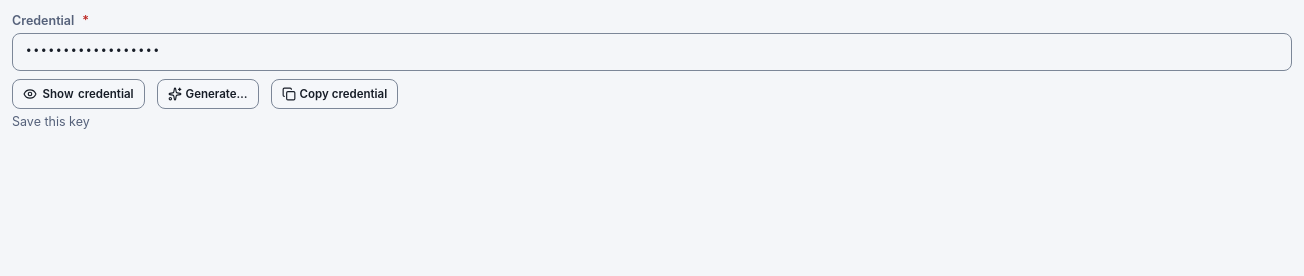
Test: SensitiveValueField › generates and reveals 32 bytes as hex using Web Crypto
Click the button named "Generate credential".
click(208, 94)  # box top-left (156, 79), bottom-right (259, 109)
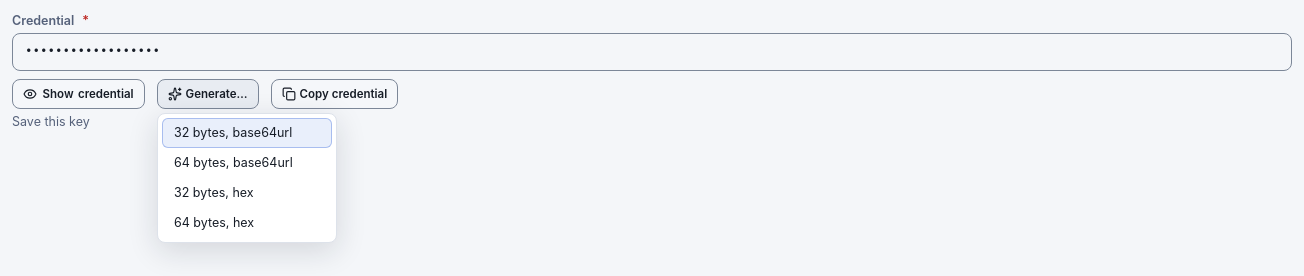
Click the menu item "32 bytes, hex".
click(214, 192)  # box top-left (174, 185), bottom-right (254, 200)
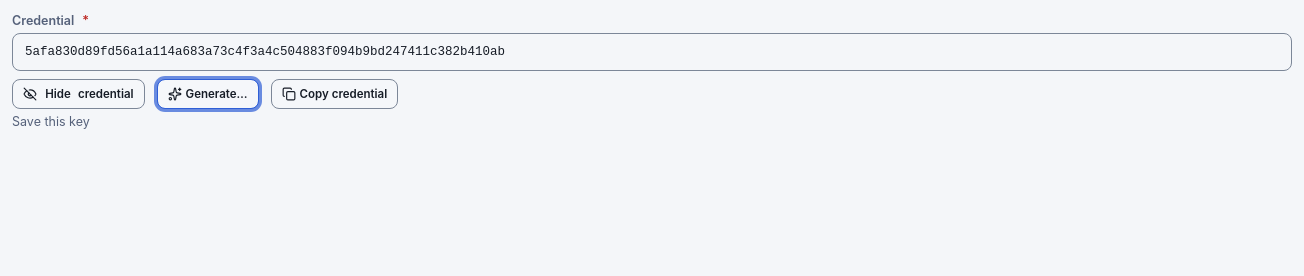
Now the field labelled "Credential *" shows its text, box top-left (12, 33), bottom-right (1292, 71)
